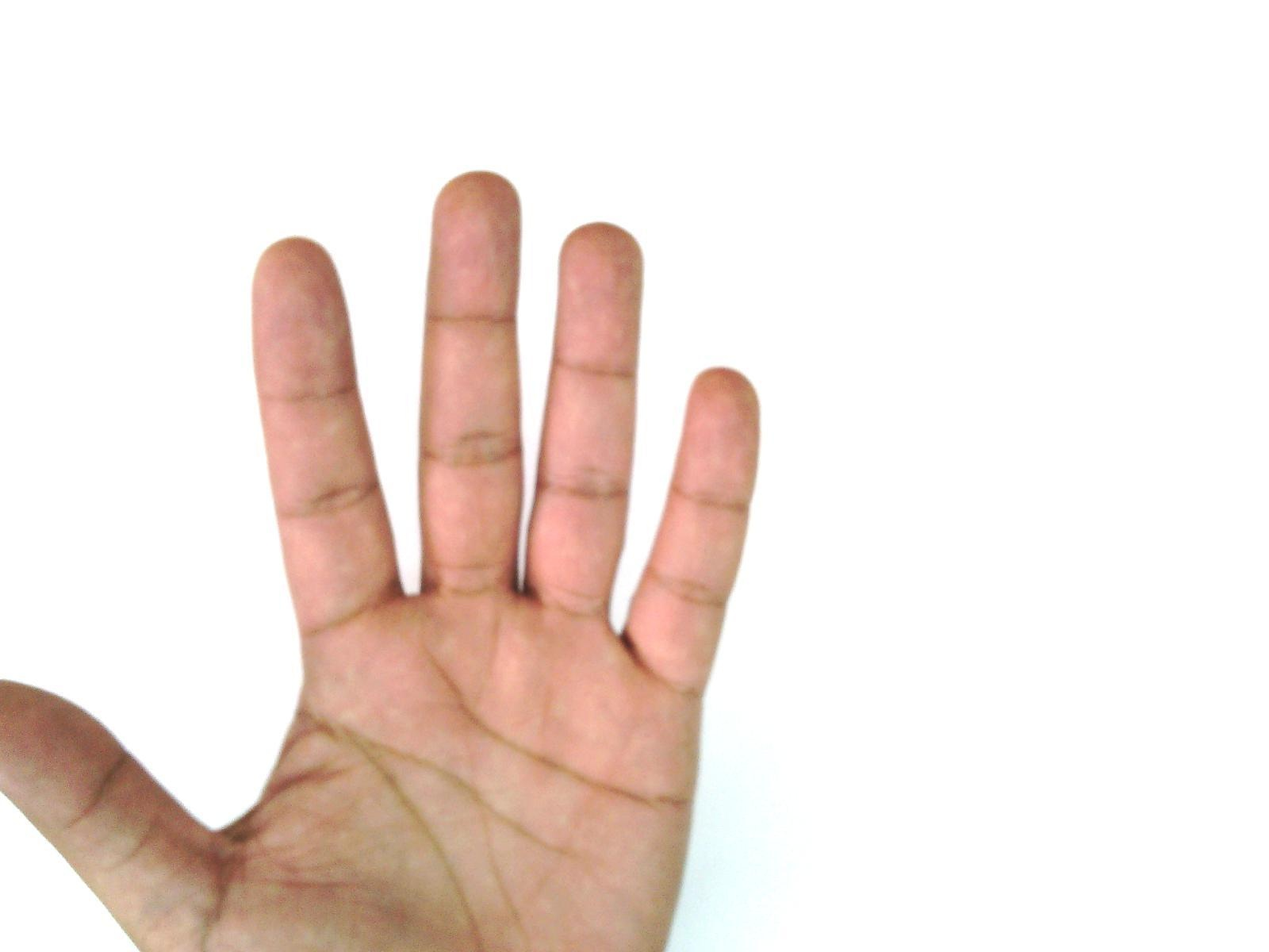open_palm: (3, 169, 765, 952)
